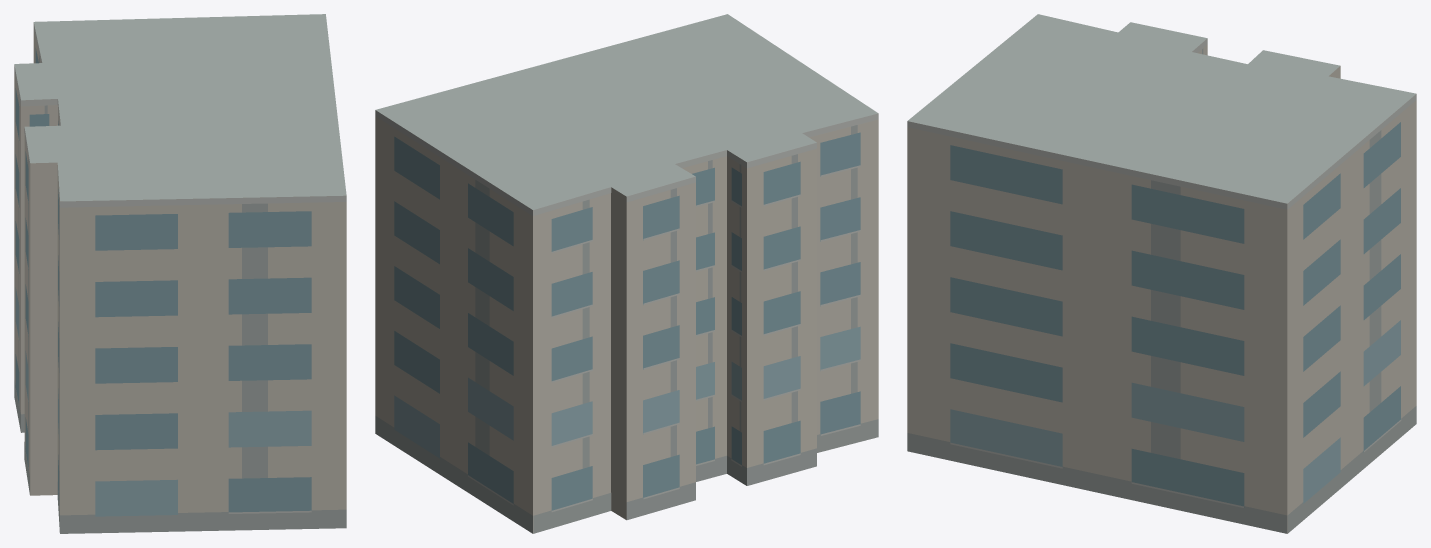
Rendered from survey-upis-32884354.glb.
The picture shows the model from 3 angles, left to right: view 1: azimuth 30°, elevation 25°; view 2: azimuth 150°, elevation 25°; view 3: azimuth 270°, elevation 25°; orthographic projection. The views are drawn at different scales.
Parts seen in each view (by area): view 1: survey-upis-32884354.tmp; view 2: survey-upis-32884354.tmp; view 3: survey-upis-32884354.tmp.
Part boxes in pixels (bbox=[...]): survey-upis-32884354.tmp: bbox=[14, 14, 346, 533]; survey-upis-32884354.tmp: bbox=[375, 14, 878, 533]; survey-upis-32884354.tmp: bbox=[907, 14, 1416, 533].
Bounding box in the file's own units: 16.15 × 13.1 × 18.33.
